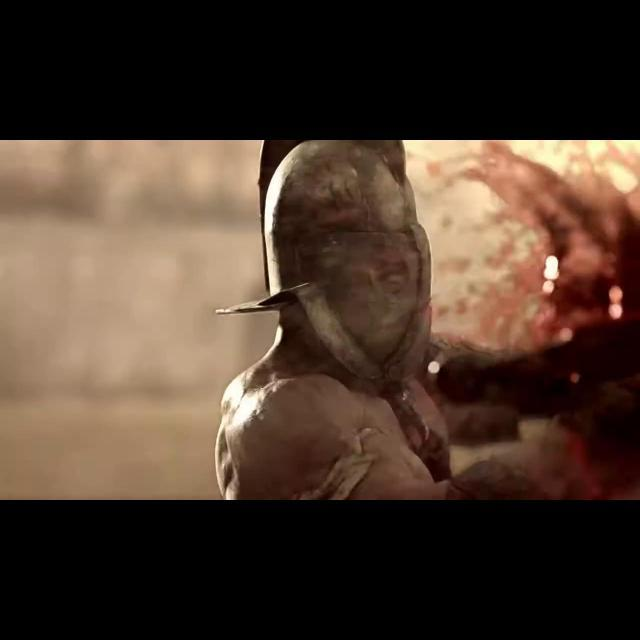blood: (414, 140, 640, 348), (522, 409, 640, 499)
